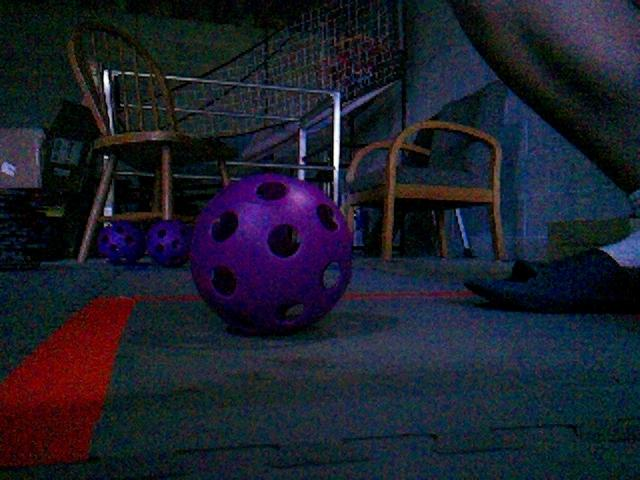Purple: (186, 173, 354, 335), (95, 220, 146, 266), (144, 219, 192, 267)
